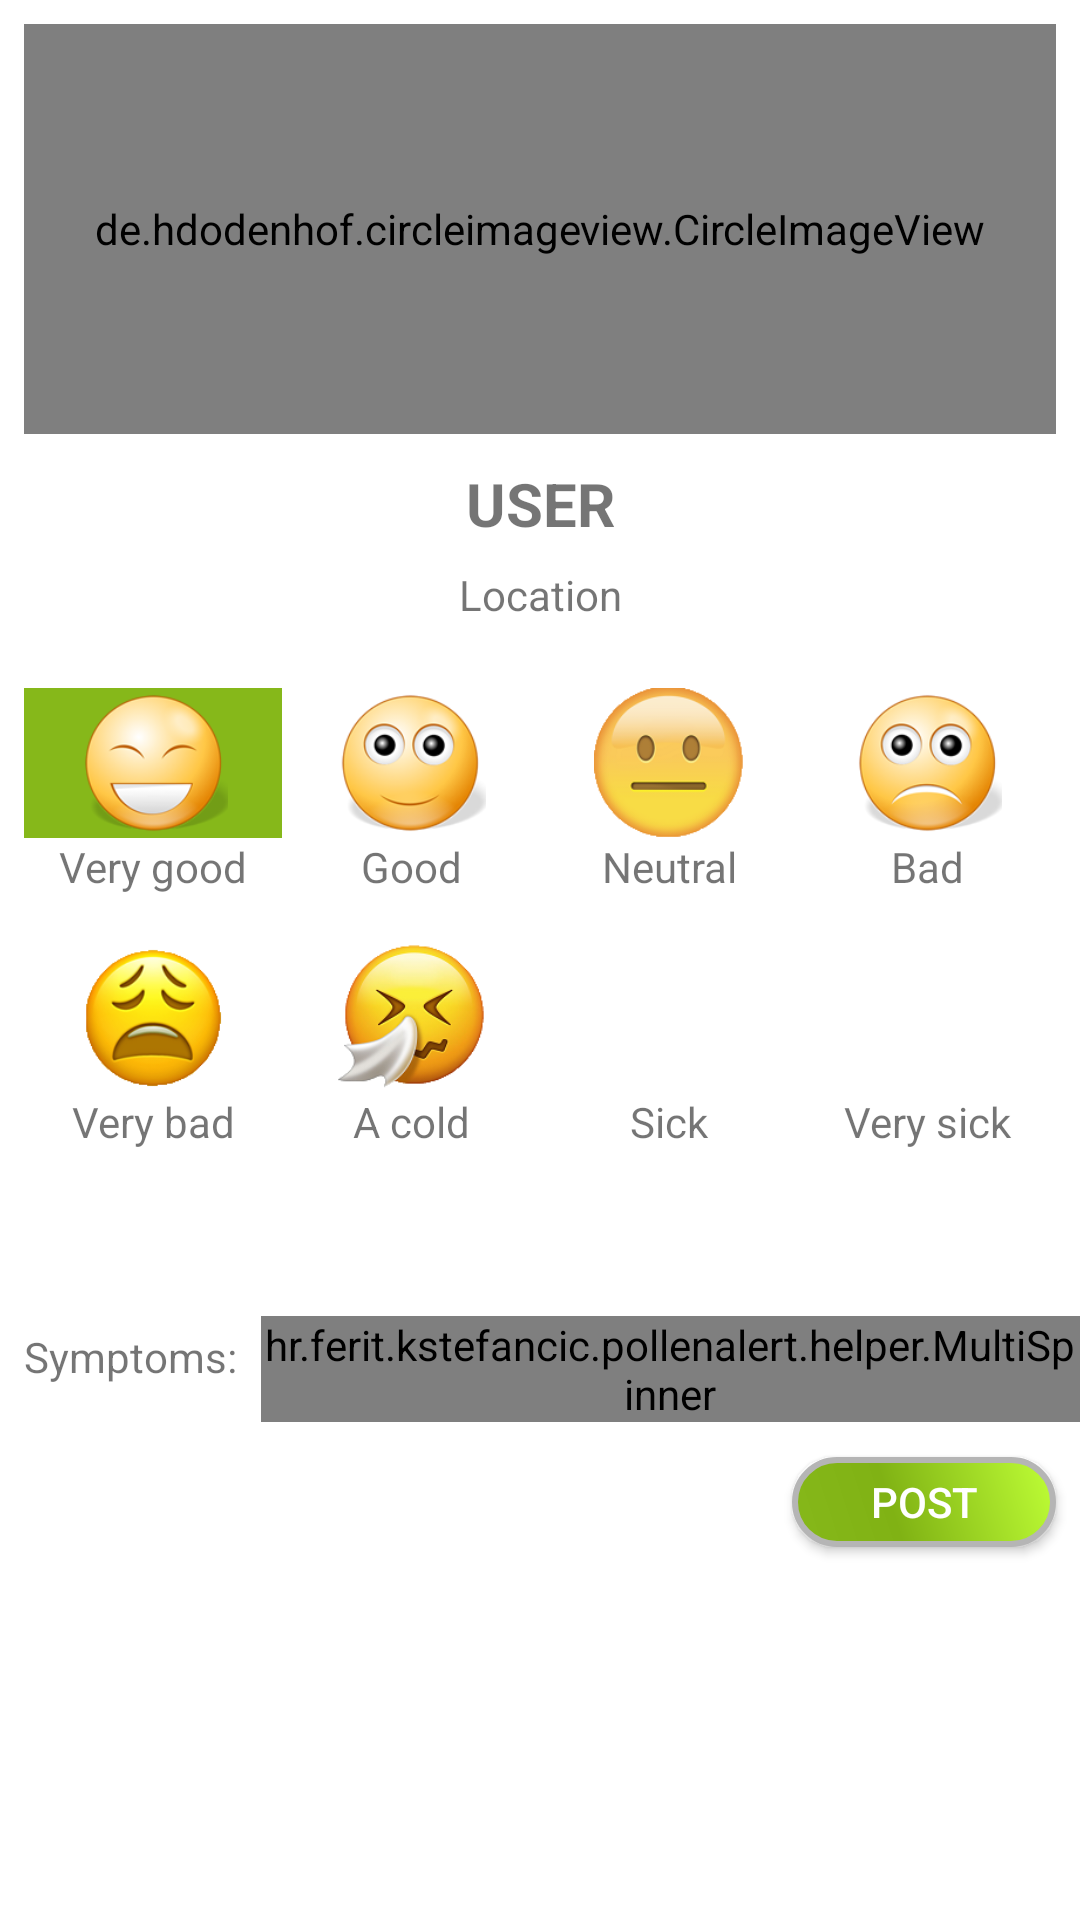

Where icons sit on this 1080*1920 app screen, as (x1, y1, x2, y2):
laugh emoji: (24, 688, 282, 838)
smiley emoji: (342, 695, 484, 831)
sneezing emoji: (338, 945, 484, 1087)
